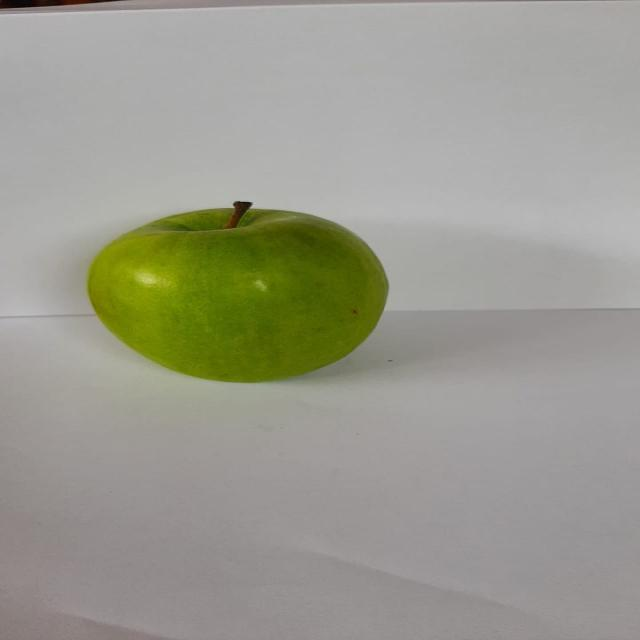50-_ripeness: (77, 192, 402, 392)
